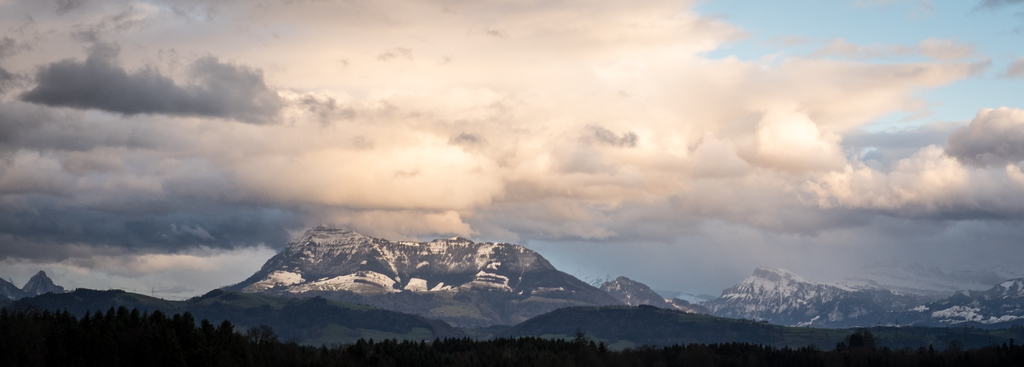Tree: (0, 299, 1021, 366)
